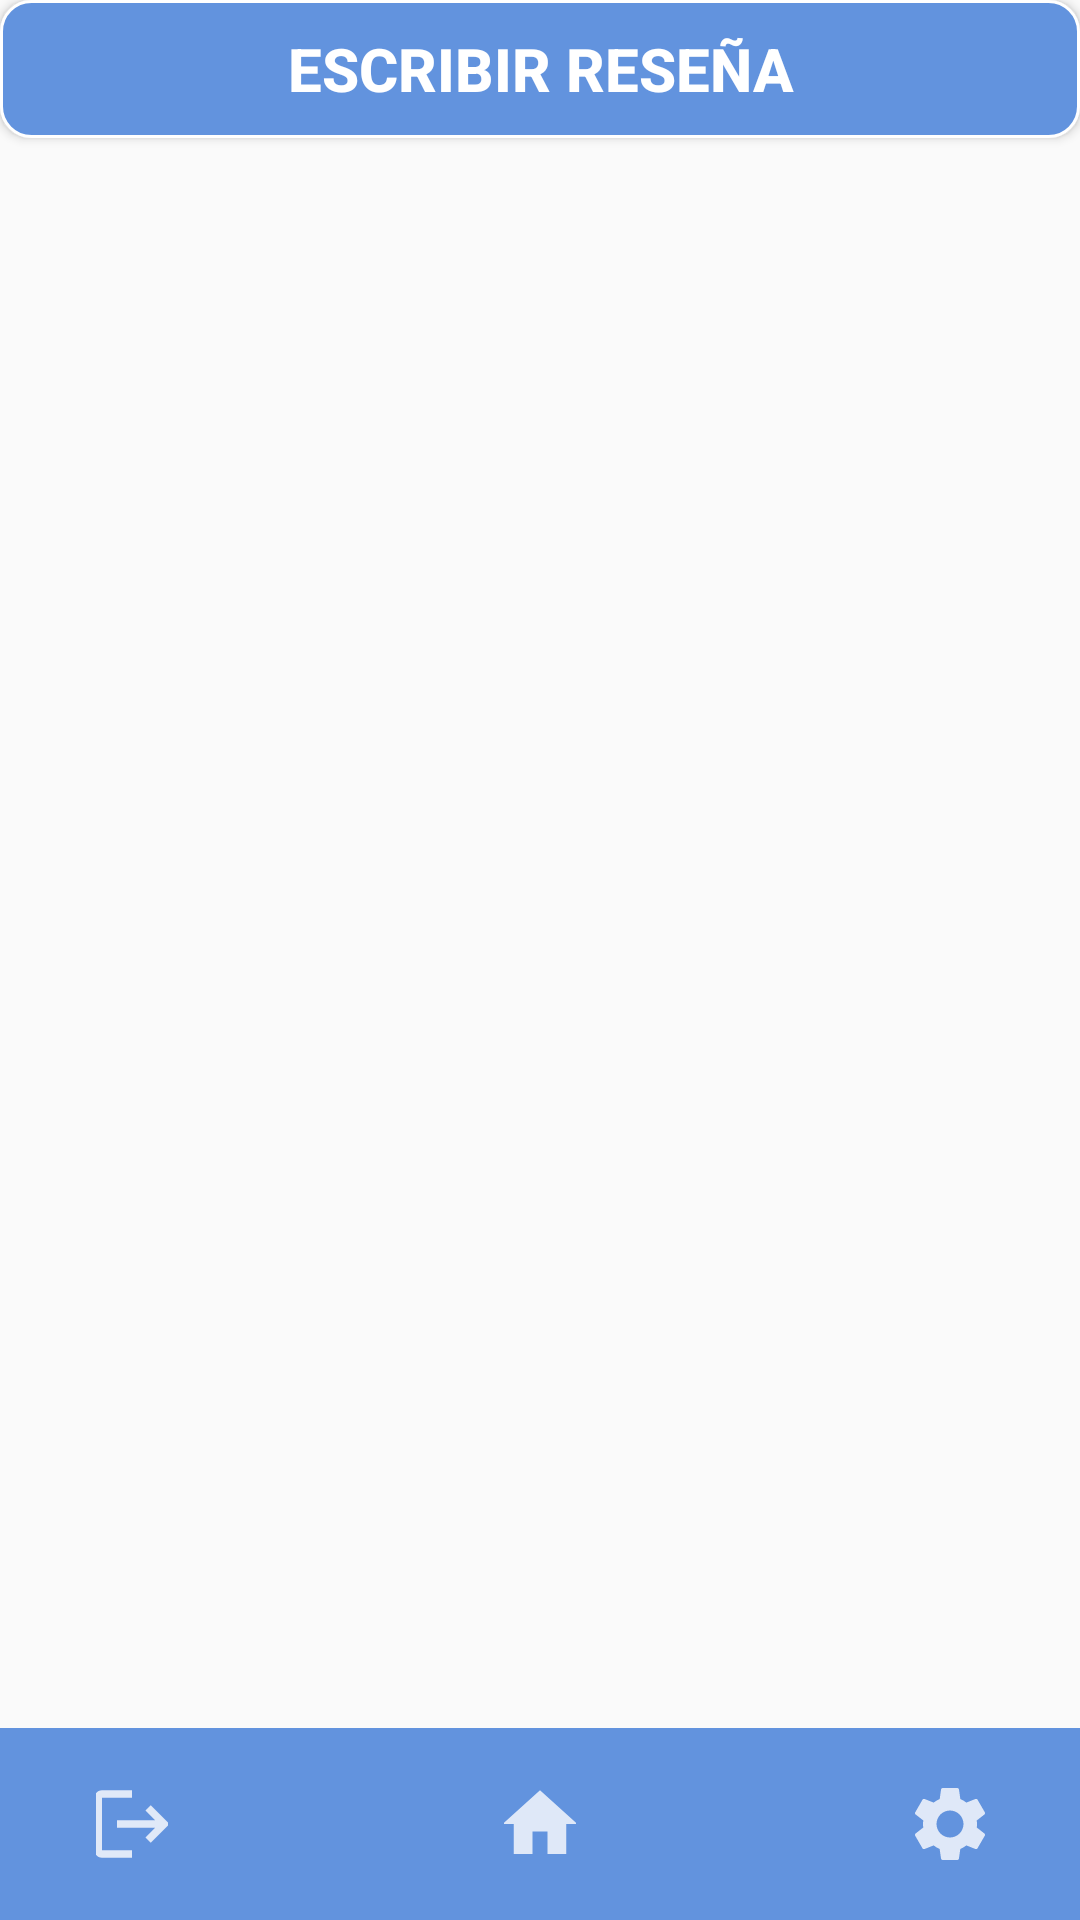

Locate icon controls on the screen. Image size 1080*1920, boxes as (x1, y1, x2, y2).
home: (504, 1790, 576, 1854)
settings: (915, 1788, 985, 1860)
